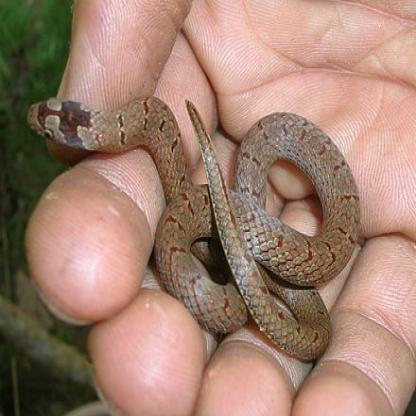snakes: (168, 120, 354, 356), (24, 88, 191, 162)
